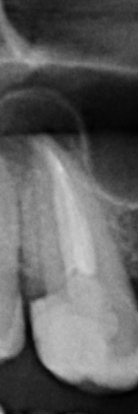fracture: (42, 142, 61, 177)
